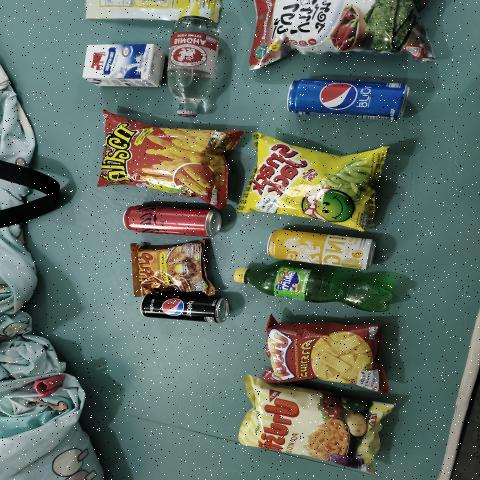coke_red: (120, 207, 226, 237)
fanta_green: (236, 269, 417, 298)
mama: (133, 253, 210, 292)
paprika: (233, 391, 398, 459)
party_red: (270, 331, 378, 378)
pepsi_black: (139, 300, 236, 322)
pepsi_blue: (282, 80, 416, 116)
singha_soda: (160, 16, 224, 116)
singha_yellow: (268, 230, 373, 263)
snack_jack: (253, 149, 390, 218)
thai_denmark: (86, 43, 160, 89)
twisco: (100, 124, 232, 191)
